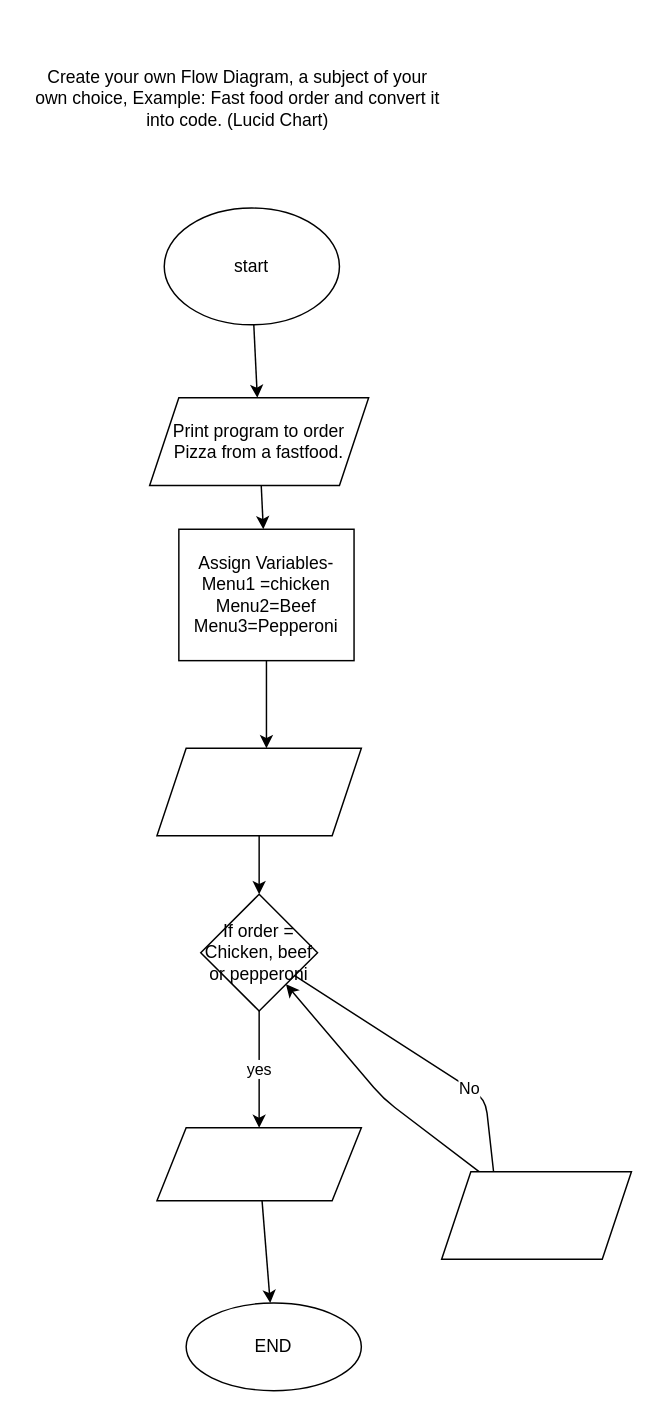
Image size: 657x1416. Some labels were removed from this diagram. The centre of each missing label's shape, as x and y in pixels:
print (''user_input" + pizza order successful.: [258,1163]
print (input(select your choice of pizza): [535,1214]
User Input_ Select the choice of Pizza: [258,791]
